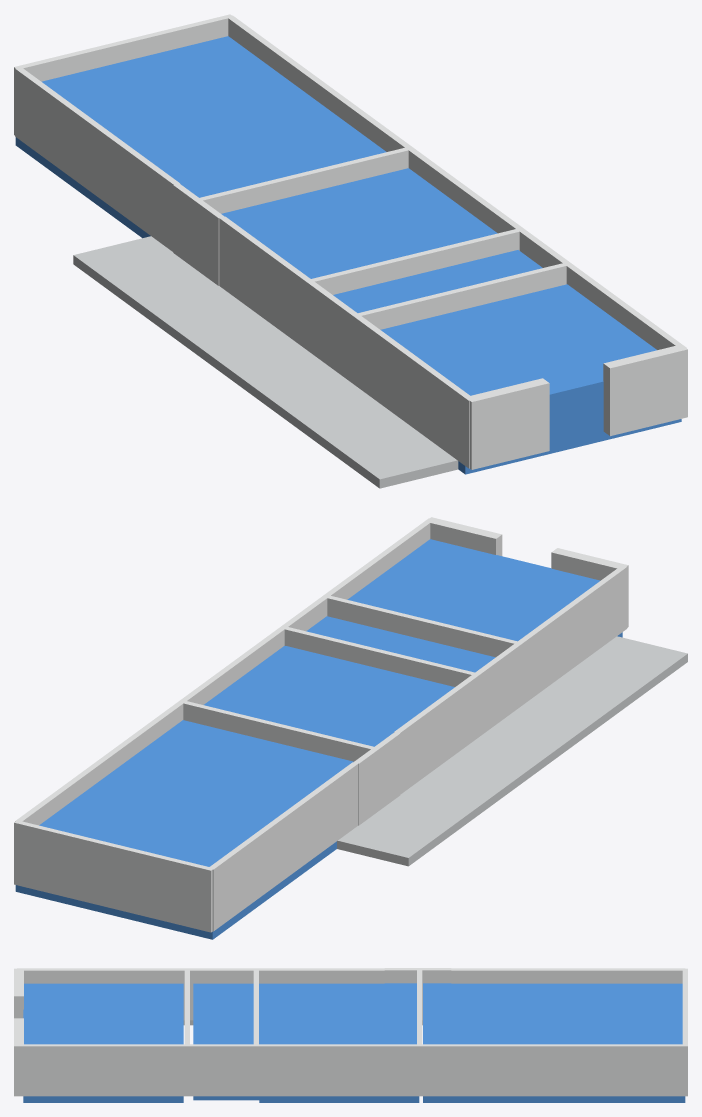
The model's file is level-6.glb.
3 renders of one model, top to bottom at view 1: azimuth 30°, elevation 25°; view 2: azimuth 150°, elevation 25°; view 3: azimuth 270°, elevation 25°, orthographic. The views are drawn at different scales.
Parts seen in each view (by area): view 1: Rifle Range | floor.002, C corridor.004, Kitchen 01 | floor.004, Kitchen 01 | floor.003, Rifle Range | wall W.002, Kitchen 01 | wall W.002, Toilets | wall S-right.008, Toilets | wall S-left.008, Kitchen 02 | wall W.002, Armoury | floor.001, Kitchen 01 | wall N.001, Rifle Range | wall N.002 (+11 smaller); view 2: Rifle Range | floor.002, C corridor.004, Kitchen 01 | floor.004, Kitchen 01 | floor.003, Rifle Range | wall N.002, Rifle Range | wall W.002, Kitchen 01 | wall W.002, Kitchen 02 | wall W.002, Kitchen 01 | wall N.001, Armoury | floor.001, Rifle Range | wall S-left.001, Rifle Range | wall S-left.004 (+11 smaller); view 3: Rifle Range | floor.002, Rifle Range | wall E.002, Kitchen 01 | floor.004, Kitchen 01 | floor.003, Kitchen 01 | wall E.002, Kitchen 02 | wall E.002, Armoury | floor.001, Rifle Range | wall W.002, Armoury | wall E.002, Toilets | wall E.008, Prep Room | wall E.002, Kitchen 01 | wall W.002 (+10 smaller).
Boxes of the visible parts, box(x1,y1,x2,y2) form: Rifle Range | floor.002: box(15, 36, 386, 238); C corridor.004: box(73, 236, 458, 488); Kitchen 01 | floor.004: box(380, 284, 681, 474); Kitchen 01 | floor.003: box(221, 168, 497, 278); Rifle Range | wall W.002: box(15, 68, 180, 251); Kitchen 01 | wall W.002: box(219, 216, 315, 351); Toilets | wall S-right.008: box(603, 345, 687, 436); Toilets | wall S-left.008: box(465, 378, 549, 469); Kitchen 02 | wall W.002: box(355, 316, 429, 435); Armoury | floor.001: box(333, 250, 542, 312); Kitchen 01 | wall N.001: box(353, 262, 571, 329); Rifle Range | wall N.002: box(14, 14, 232, 135); Rifle Range | floor.002: box(15, 720, 353, 939); C corridor.004: box(337, 636, 687, 866); Kitchen 01 | floor.004: box(347, 539, 622, 641); Kitchen 01 | floor.003: box(204, 646, 454, 746); Rifle Range | wall N.002: box(14, 820, 213, 932); Rifle Range | wall W.002: box(209, 762, 358, 931); Kitchen 01 | wall W.002: box(394, 671, 482, 794); Kitchen 02 | wall W.002: box(518, 595, 585, 703); Kitchen 01 | wall N.001: box(323, 595, 522, 657); Armoury | floor.001: box(286, 616, 495, 687); Rifle Range | wall S-left.001: box(183, 701, 373, 761); Rifle Range | wall S-left.004: box(284, 627, 479, 686); Rifle Range | floor.002: box(423, 983, 685, 1102); Rifle Range | wall E.002: box(451, 1044, 685, 1096); Kitchen 01 | floor.004: box(23, 983, 183, 1102); Kitchen 01 | floor.003: box(259, 983, 419, 1102); Kitchen 01 | wall E.002: box(251, 1044, 384, 1096); Kitchen 02 | wall E.002: box(83, 1044, 183, 1096); Armoury | floor.001: box(193, 983, 259, 1100); Rifle Range | wall W.002: box(451, 968, 684, 983); Armoury | wall E.002: box(384, 1044, 451, 1096); Toilets | wall E.008: box(17, 1044, 83, 1096); Prep Room | wall E.002: box(184, 1044, 250, 1096); Kitchen 01 | wall W.002: box(251, 968, 384, 983).
Size of the model in its own units: 15.04 by 3.75 by 40.34.
